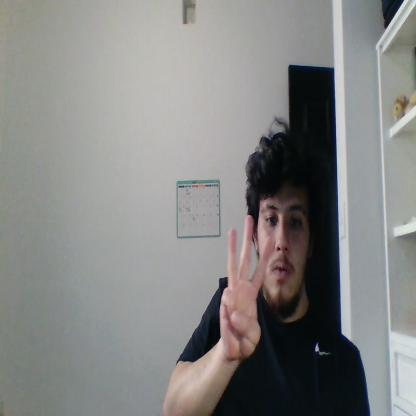W: (220, 215, 272, 359)
